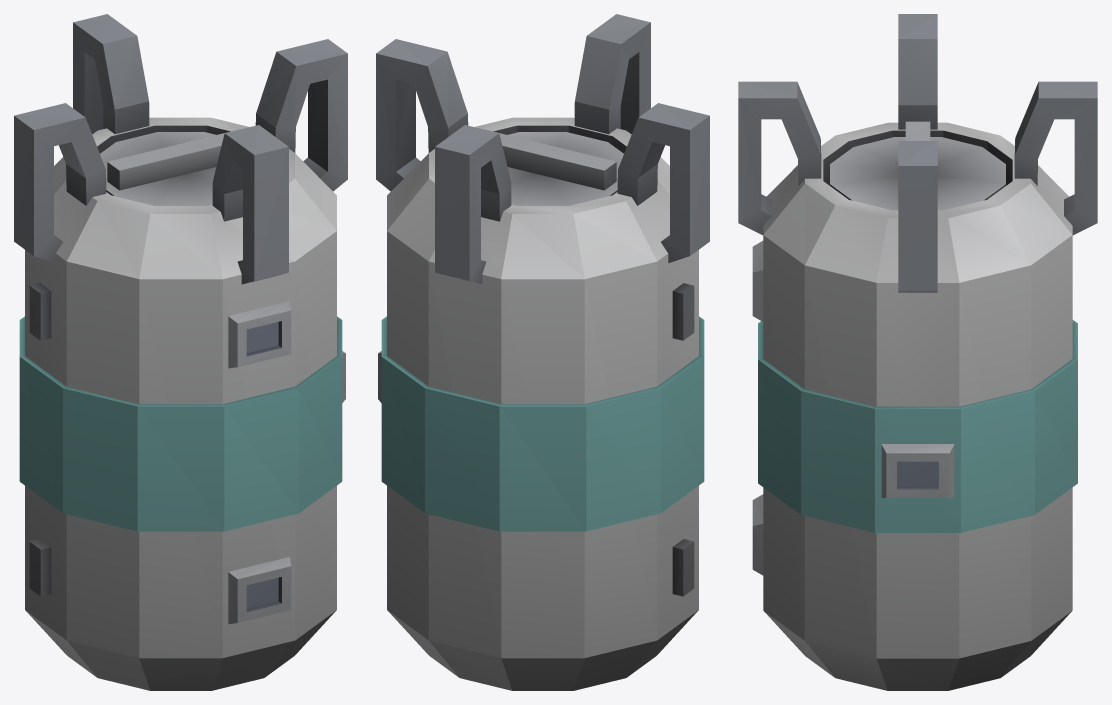
Rendered from canister.glb.
The picture shows the model from 3 angles, left to right: view 1: azimuth 30°, elevation 25°; view 2: azimuth 150°, elevation 25°; view 3: azimuth 270°, elevation 25°; orthographic projection.
Parts seen in each view (by area): view 1: canister; view 2: canister; view 3: canister.
Boxes of the visible parts, x1,y1,x2,y2 form: canister: (14,14,347,690); canister: (376,14,709,690); canister: (738,14,1097,690).
Bounding box in the file's own units: 0.636 × 1.08 × 0.636.
